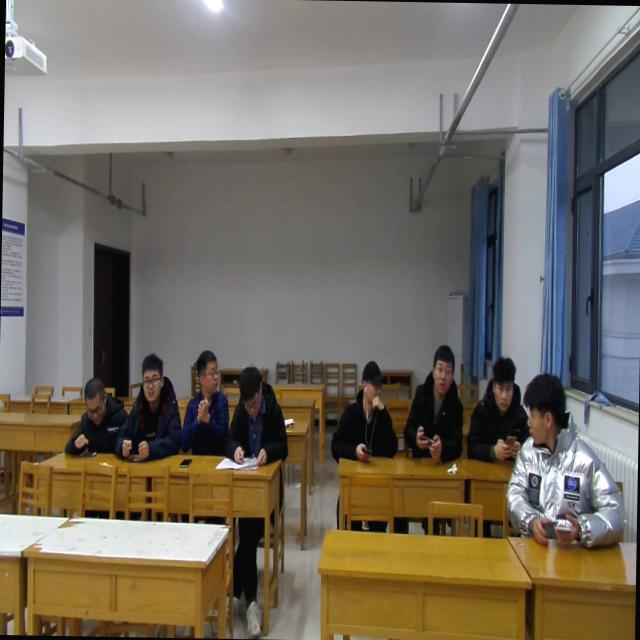bow: (62, 374, 128, 456)
down: (234, 359, 265, 420), (487, 351, 516, 415), (77, 374, 110, 425)
lookup: (135, 350, 164, 404), (428, 339, 456, 393)
sit: (502, 374, 630, 552), (400, 342, 466, 462), (114, 352, 184, 465), (330, 360, 400, 466), (224, 362, 290, 469), (468, 355, 532, 465), (179, 345, 231, 458)
